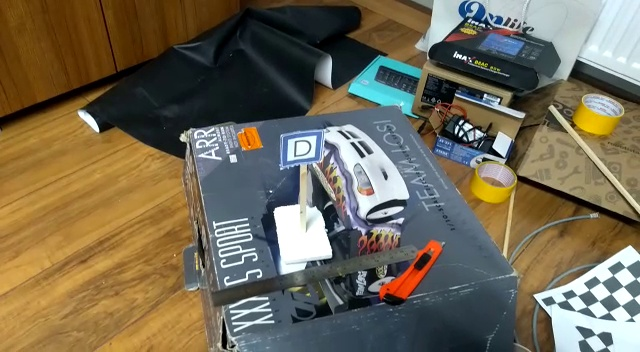durak: (280, 131, 324, 168)
